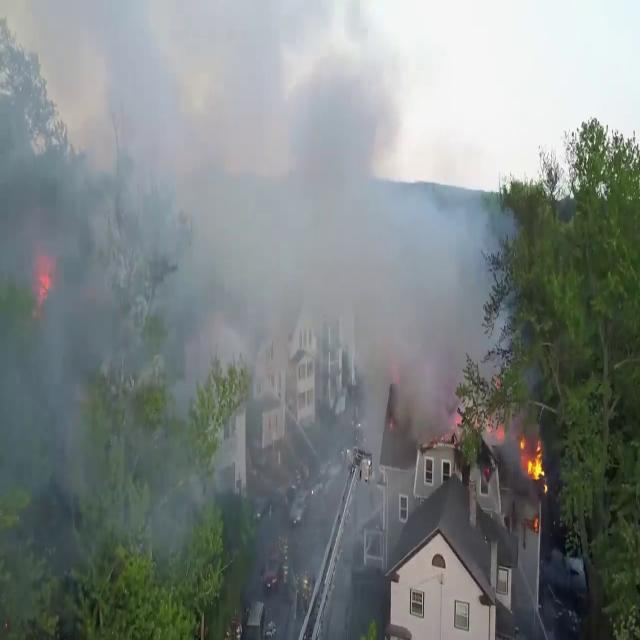Fire: (518, 432, 548, 488)
Smoke: (16, 4, 512, 450), (0, 5, 187, 632)
